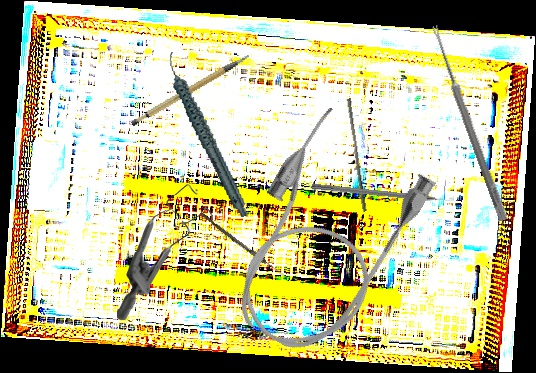Cannula: (204, 101, 443, 371)
Handpiece: (165, 43, 249, 226)
Hook Surgical: (311, 183, 455, 206)
Pusher: (343, 98, 371, 212)
Scalpel Handle: (124, 53, 258, 129)
Speculum: (117, 182, 214, 322)
Surgical Spoon: (429, 24, 509, 222), (198, 211, 291, 282)
